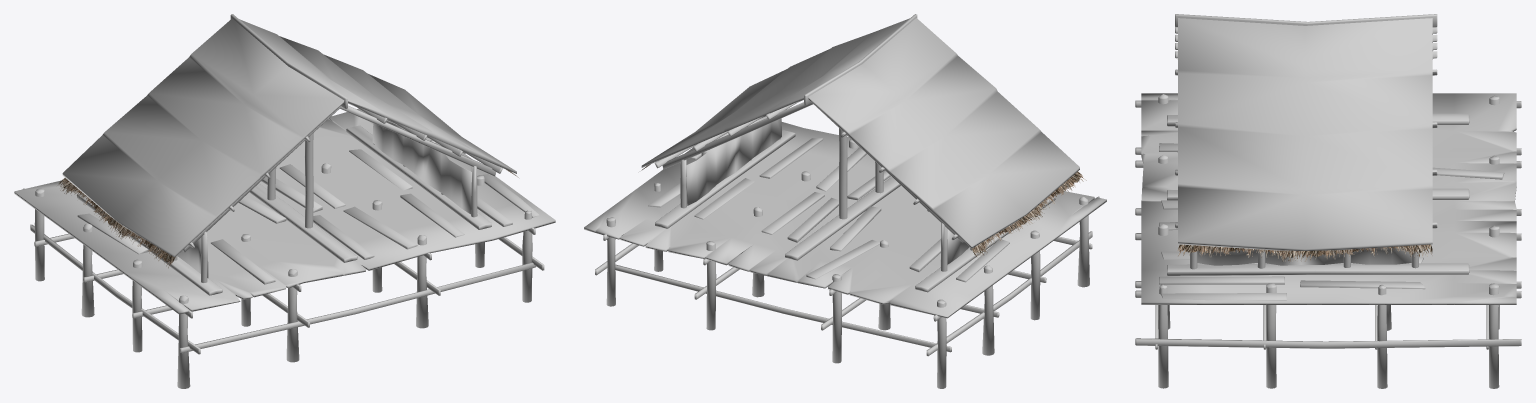
File: dock_hut.fbx
The picture shows the model from 3 angles, left to right: view 1: azimuth 30°, elevation 25°; view 2: azimuth 150°, elevation 25°; view 3: azimuth 270°, elevation 25°; orthographic projection. The views are drawn at different scales.
Parts seen in each view (by area): view 1: Mesh; view 2: Mesh; view 3: Mesh.
Boxes of the visible parts, x1,y1,x2,y2 form: Mesh: [14, 14, 555, 388]; Mesh: [584, 14, 1106, 388]; Mesh: [1135, 14, 1521, 388].
Bounding box in the file's own units: 1459 × 900 × 1140.
